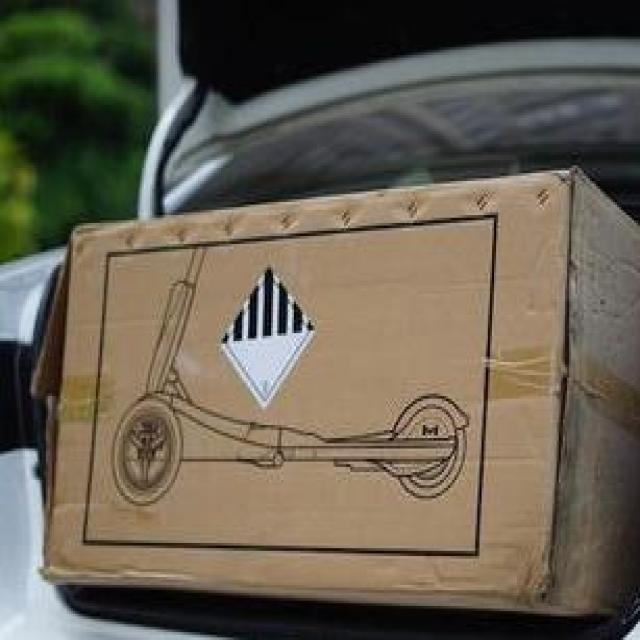cardboard: (46, 166, 640, 616)
